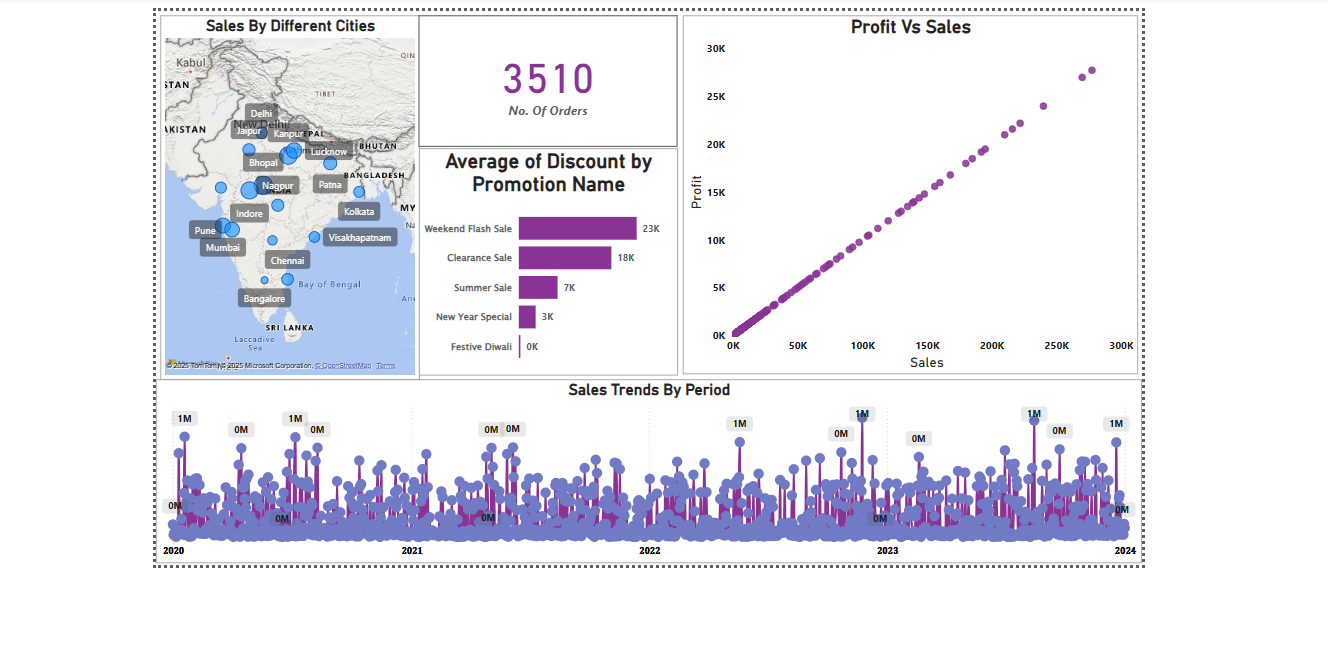

This screenshot's page, from the dashboard's own definition file:
{"tool":"powerbi","page":{"name":"Overview","canvas":[1280,720],"ordinal":1},"visuals":[{"type":"lineChart","title":"Sales Trends By Period","fields":{"Category":["Fact Table.Date (dd/mm/yyyy).Variation.Date Hierarchy.Year"],"Y":["Sum(Fact Table.Total Sales)"]},"box":[0,478.2,1280,238.2],"z":0},{"type":"scatterChart","title":"Profit Vs Sales","fields":{"X":["Fact Table.Net Sales"],"Y":["Fact Table.Profit"]},"box":[683.6,5.5,590.9,465.4],"z":1000},{"type":"barChart","fields":{"Y":["Avg(Fact Table.Discount Value)"],"Category":["Dim Promotion.Promotion Name"]},"box":[341.8,178.2,336.4,294.5],"z":2000},{"type":"map","title":"Sales By Different Cities","fields":{"Category":["Dim Customers.City"],"Size":["Sum(Fact Table.Net Sales)"]},"box":[5.5,5.5,336.4,472.7],"z":3000},{"type":"card","fields":{"Values":["CountNonNull(Fact Table.Order ID)"]},"box":[342,5,336,170],"z":4000}]}

Visuals, with their boxes on the page's 1280x720 design canvas (x1, y1, x2, y2). These are canvas units, not pixel positions in the 1328x662 screenshot, which may show the page scaled, cropped or inside an application window:
"Sales Trends By Period" lineChart: detection(0, 478, 1280, 716)
"Profit Vs Sales" scatterChart: detection(684, 6, 1274, 471)
barChart - Avg(Fact Table.Discount Value) x Dim Promotion.Promotion Name: detection(342, 178, 678, 473)
"Sales By Different Cities" map: detection(6, 6, 342, 478)
card - CountNonNull(Fact Table.Order ID): detection(342, 5, 678, 175)
